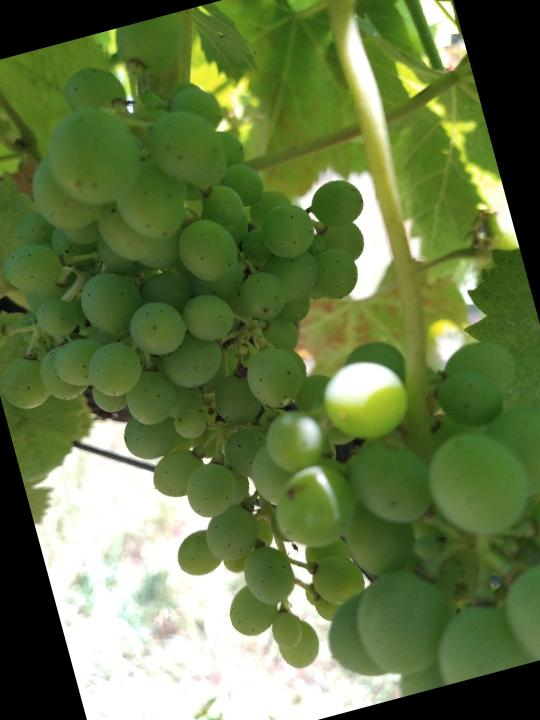grape: (0, 6, 478, 720)
